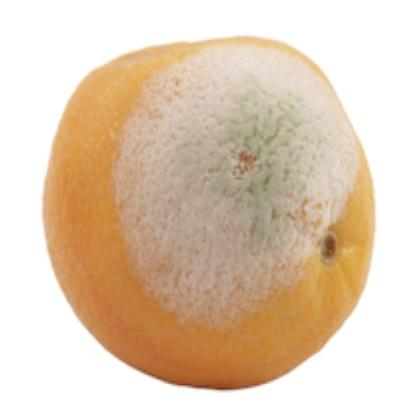rotten: (44, 37, 378, 395)
